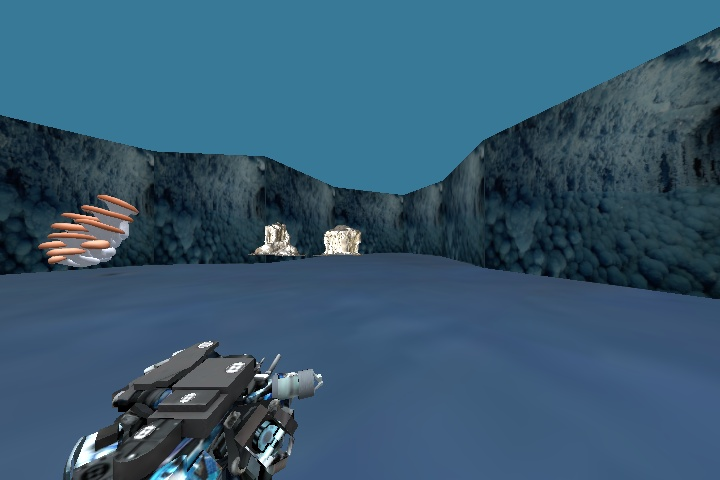formation: (320, 219, 364, 256), (260, 220, 298, 260)
mushrooms: (32, 183, 144, 273)
